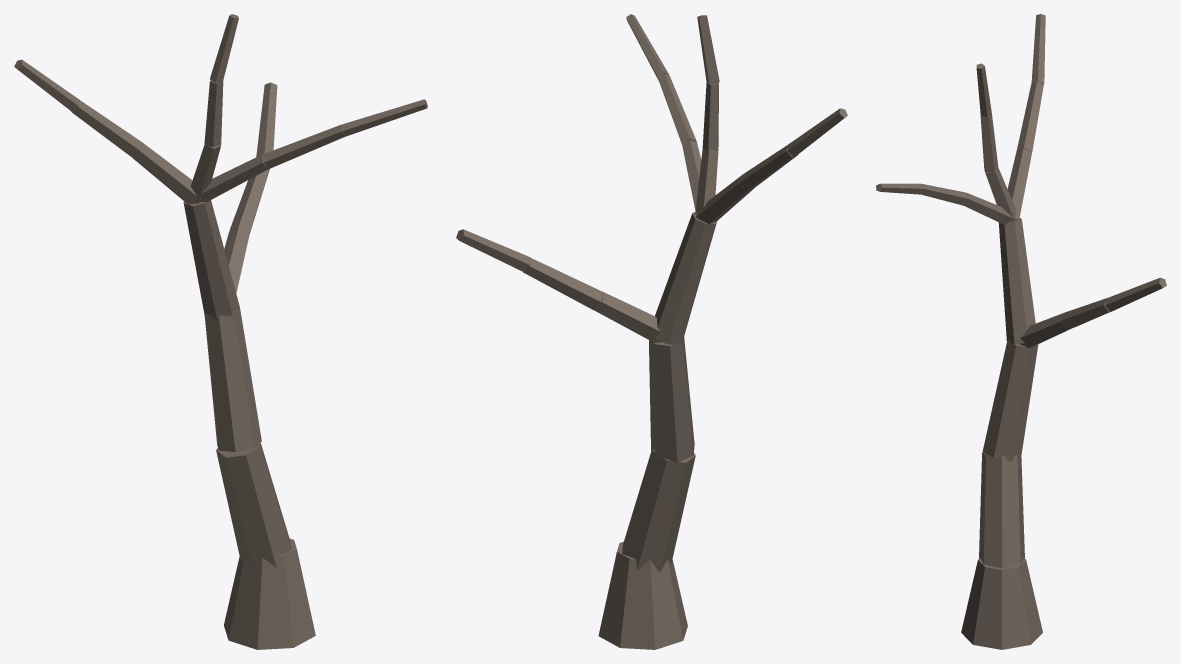
Rendered from dead_tree_small.glb.
3 renders of one model, left to right at view 1: azimuth 30°, elevation 25°; view 2: azimuth 150°, elevation 25°; view 3: azimuth 270°, elevation 25°, orthographic. The views are drawn at different scales.
Parts seen in each view (by area): view 1: bark; view 2: bark; view 3: bark.
Boxes of the visible parts, <box> form: bark: <box>14,14,427,649</box>; bark: <box>456,14,847,649</box>; bark: <box>876,14,1166,649</box>.
Bounding box in the file's own units: 2.04 × 3.75 × 1.81.
